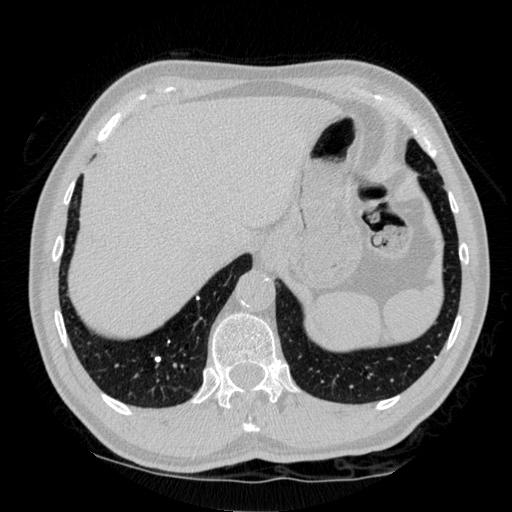nodule: (152, 354, 163, 365)
